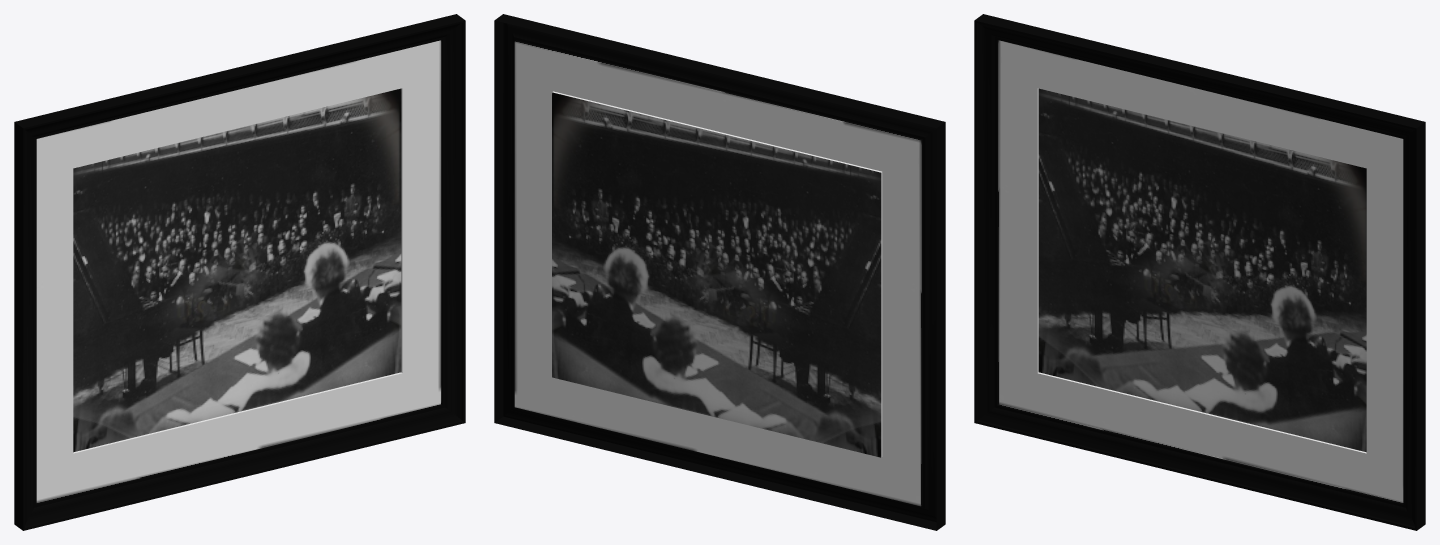
Rendered from CdC_FramePhoto09.fbx.
3 renders of one model, left to right at view 1: azimuth 30°, elevation 25°; view 2: azimuth 150°, elevation 25°; view 3: azimuth 330°, elevation 25°, orthographic.
Parts seen in each view (by area): view 1: CdC_FramePhoto09; view 2: CdC_FramePhoto09; view 3: CdC_FramePhoto09.
Part boxes in pixels (left/top/right/bottom): CdC_FramePhoto09: left=14, top=14, right=465, bottom=530; CdC_FramePhoto09: left=494, top=14, right=945, bottom=530; CdC_FramePhoto09: left=974, top=14, right=1425, bottom=530.
Size of the model in its own units: 1.15 by 1 by 0.04.
